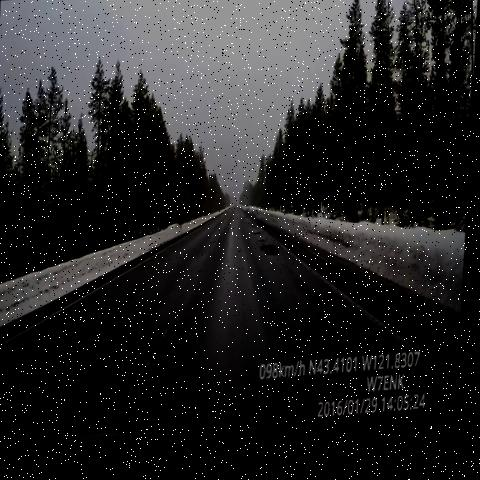pothole: (262, 240, 287, 268), (254, 236, 277, 255), (253, 223, 269, 243)
